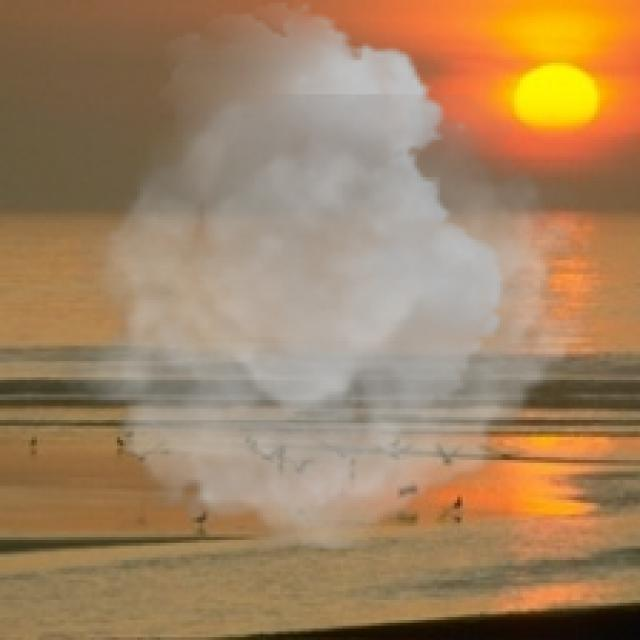smoke: (60, 3, 603, 548)
